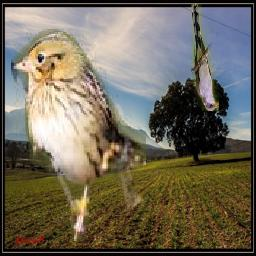Cuckoo: (191, 3, 219, 111)
Sparrow: (12, 29, 147, 241)
